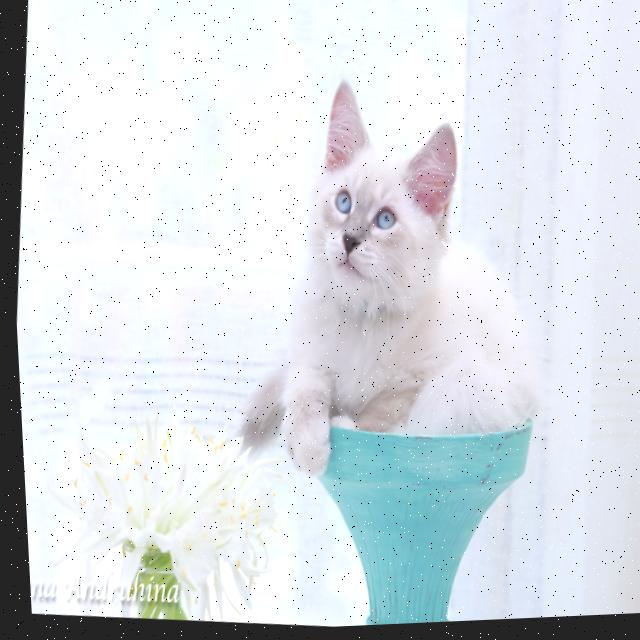Neva Masquerade: (201, 59, 568, 507)
